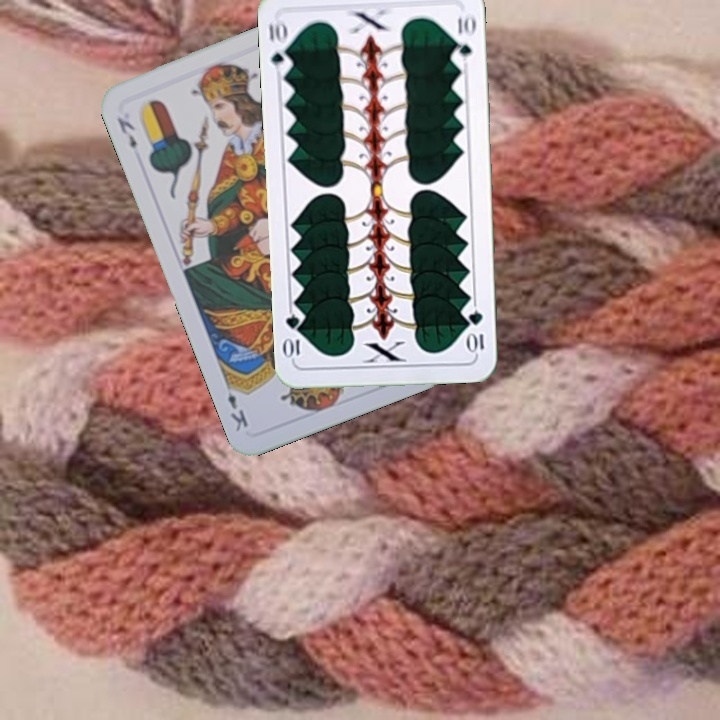EK: (112, 113, 139, 152)
G10: (264, 16, 294, 75), (465, 306, 487, 356)
